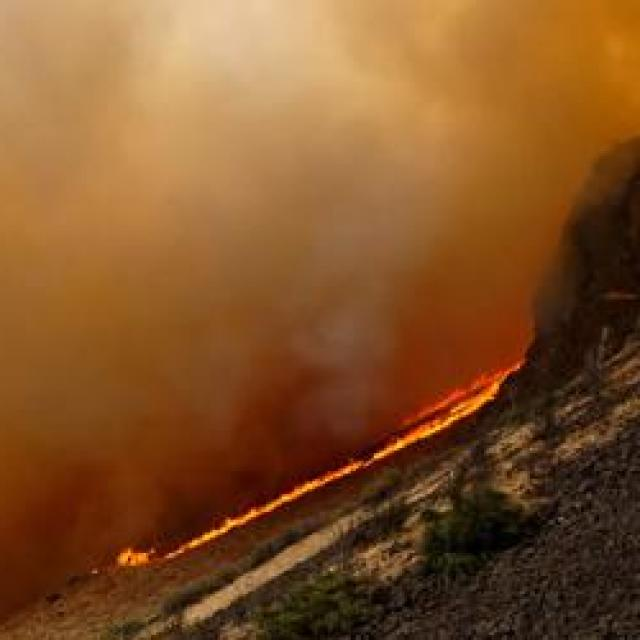fire: (440, 380, 504, 425)
smoke: (25, 12, 177, 170), (389, 124, 519, 308), (351, 0, 527, 92), (0, 442, 129, 562), (293, 309, 415, 401), (221, 354, 328, 454)
